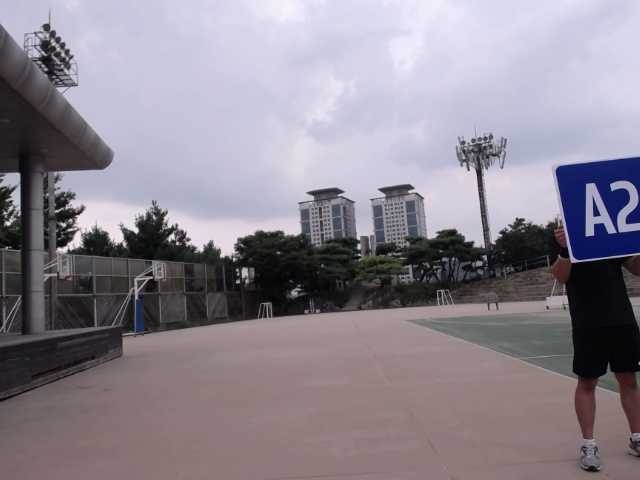delivery_a2: (555, 156, 639, 260)
